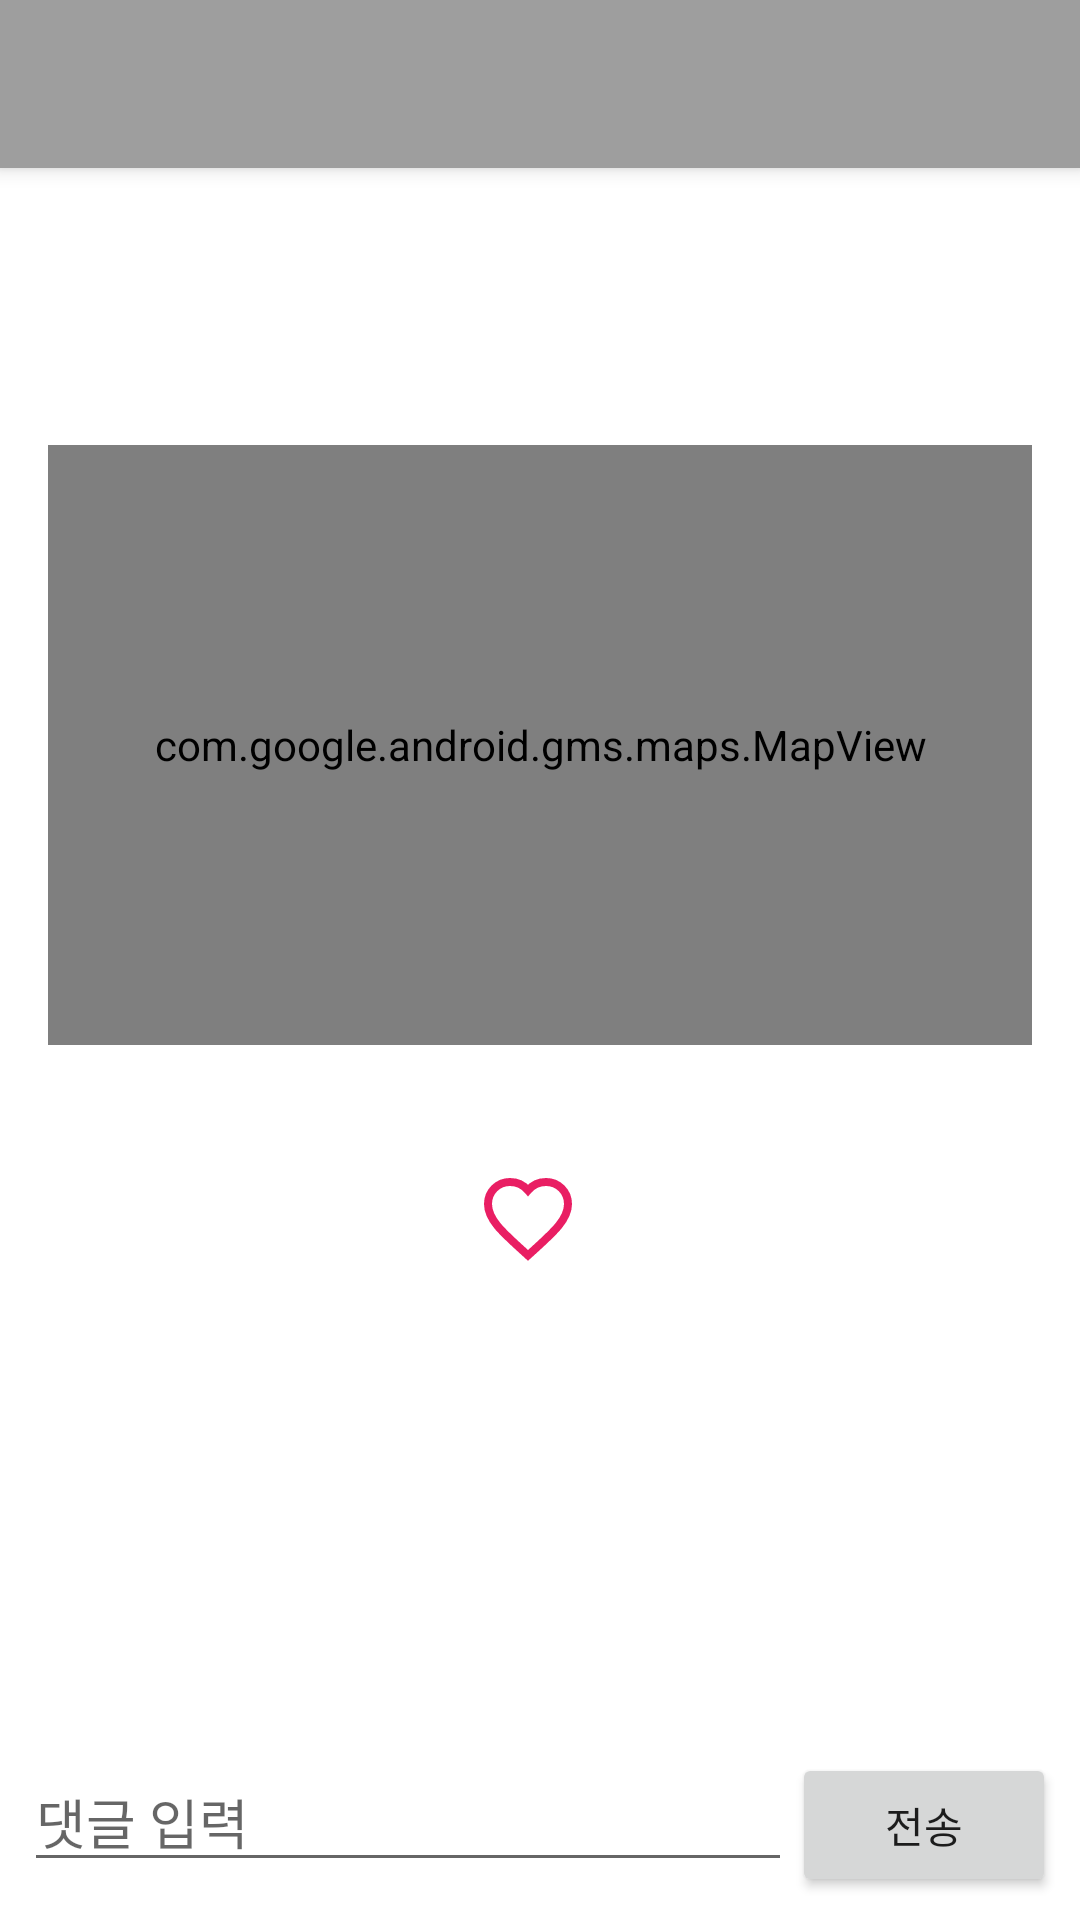

Screen size 1080w x 1920h. Icon name, then its center in pixels as point (x, y):
heart: point (528, 1219)
